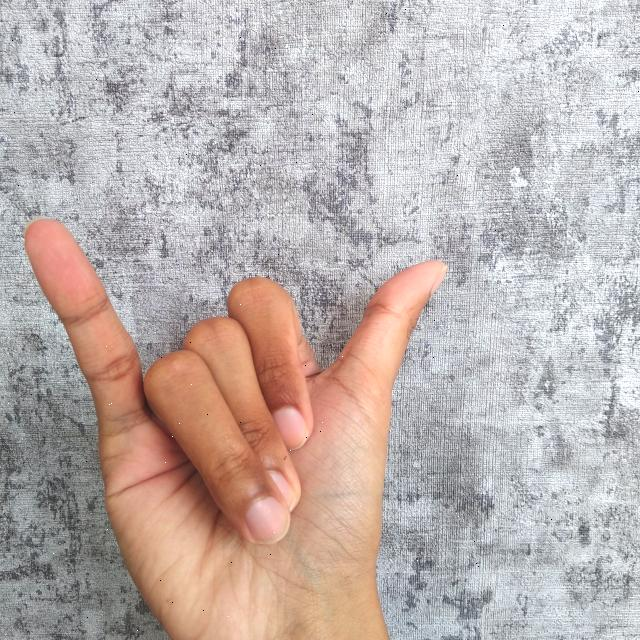Y: (19, 208, 459, 640)
